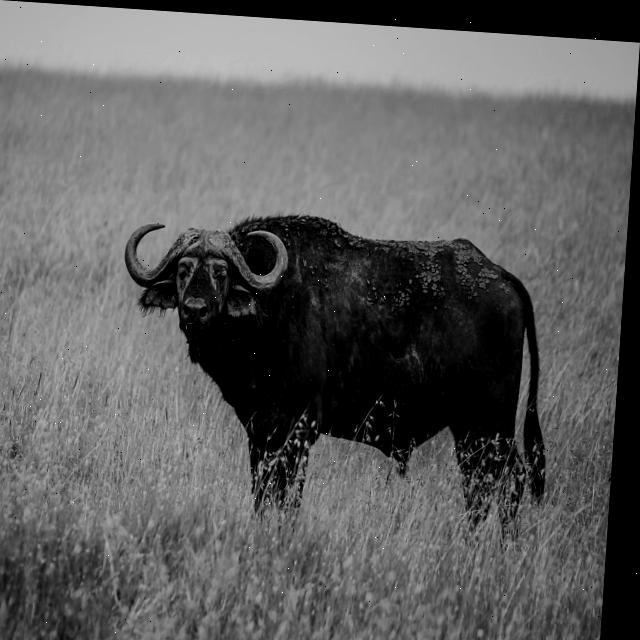Buffalo: (108, 204, 566, 546)
